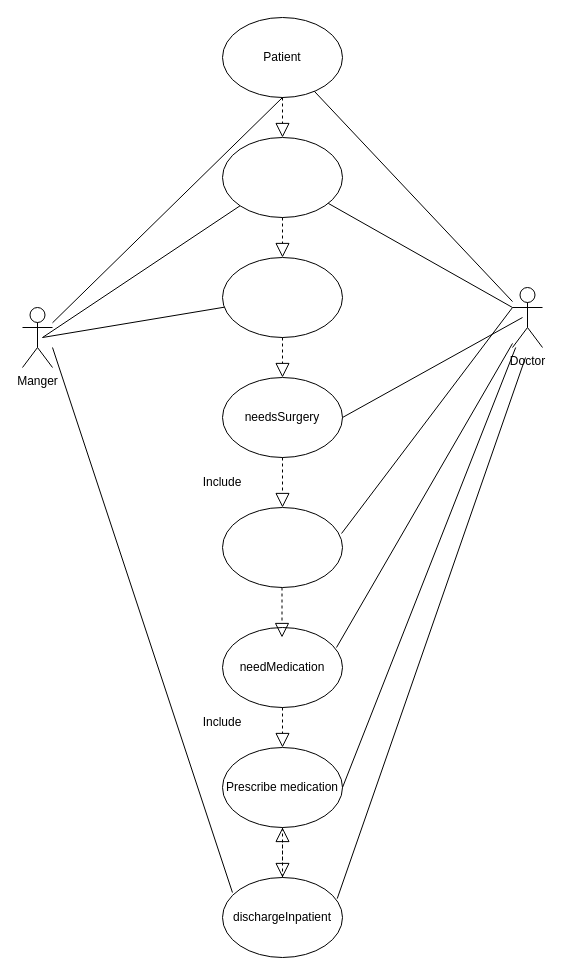
Image size: 562x975. Some labels were removed from this diagram. The centre of each missing label's shape, as x and y in pixels:
"Admit patient" belongs at point 282,177.
"HaveSurgery" belongs at point 282,547.
"transferDepartament" belongs at point 282,297.
